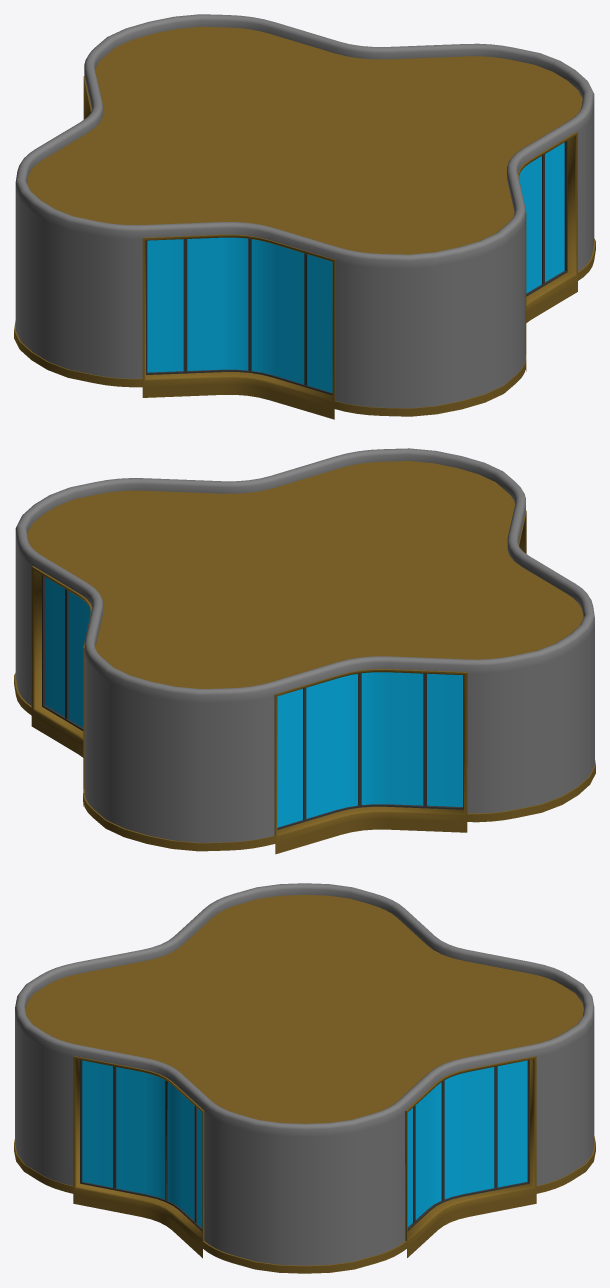
File: SM_Building_Middle_03_MK5.fbx
The picture shows the model from 3 angles, top to bottom: view 1: azimuth 30°, elevation 25°; view 2: azimuth 150°, elevation 25°; view 3: azimuth 270°, elevation 25°; orthographic projection. The views are drawn at different scales.
Visible parts, largest first — view 1: SM_Building_Middle_03_MK5; view 2: SM_Building_Middle_03_MK5; view 3: SM_Building_Middle_03_MK5.
Boxes of the visible parts, x1,y1,x2,y2 form: SM_Building_Middle_03_MK5: (14,14,595,419); SM_Building_Middle_03_MK5: (14,448,595,854); SM_Building_Middle_03_MK5: (14,883,595,1273).
Bounding box in the file's own units: 1801 × 534 × 1801.
